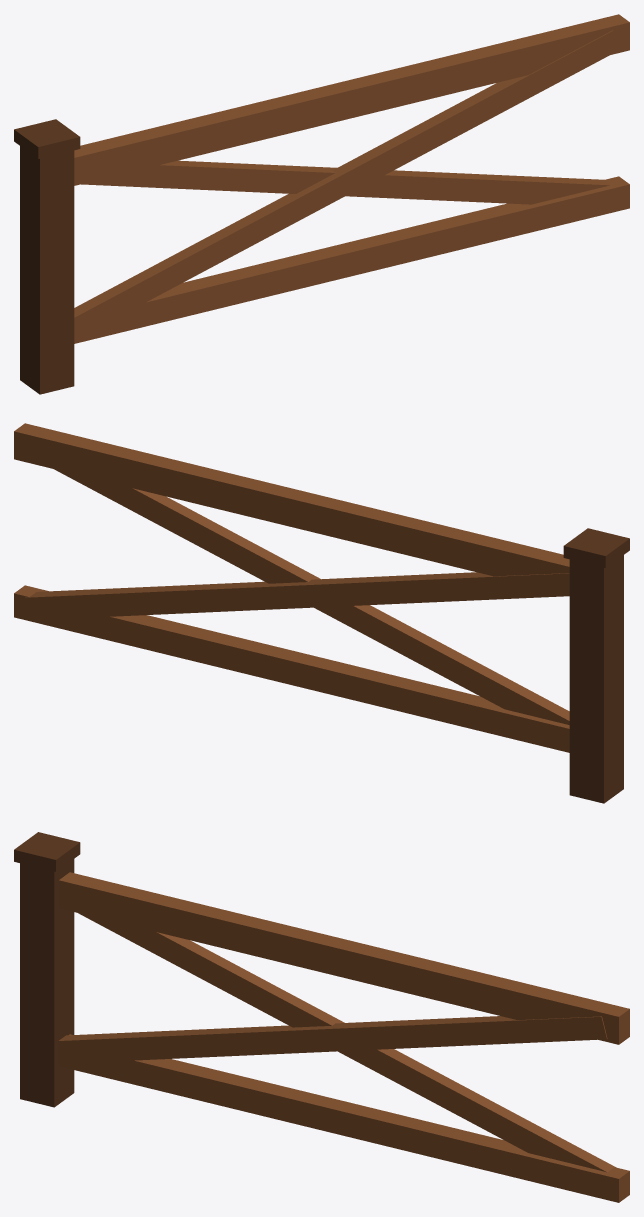
The model's file is fence.glb.
The picture shows the model from 3 angles, top to bottom: view 1: azimuth 30°, elevation 25°; view 2: azimuth 150°, elevation 25°; view 3: azimuth 330°, elevation 25°; orthographic projection.
Visible parts, largest first — view 1: fence; view 2: fence; view 3: fence.
Boxes of the visible parts, x1,y1,x2,y2 form: fence: [14, 14, 629, 394]; fence: [14, 423, 629, 803]; fence: [14, 832, 629, 1202].
Bounding box in the file's own units: 3.13 × 1.25 × 0.22.
